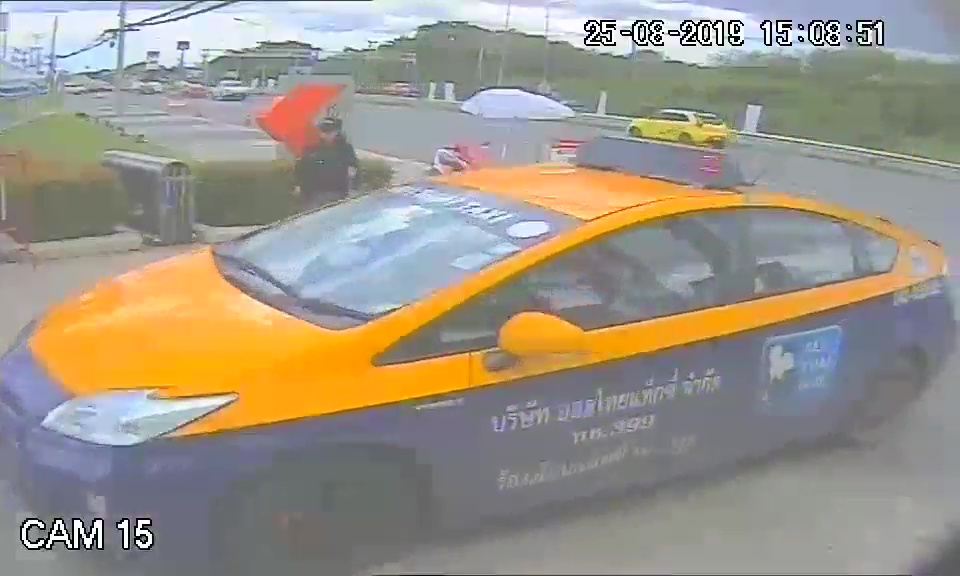sedan: (6, 164, 696, 568)
